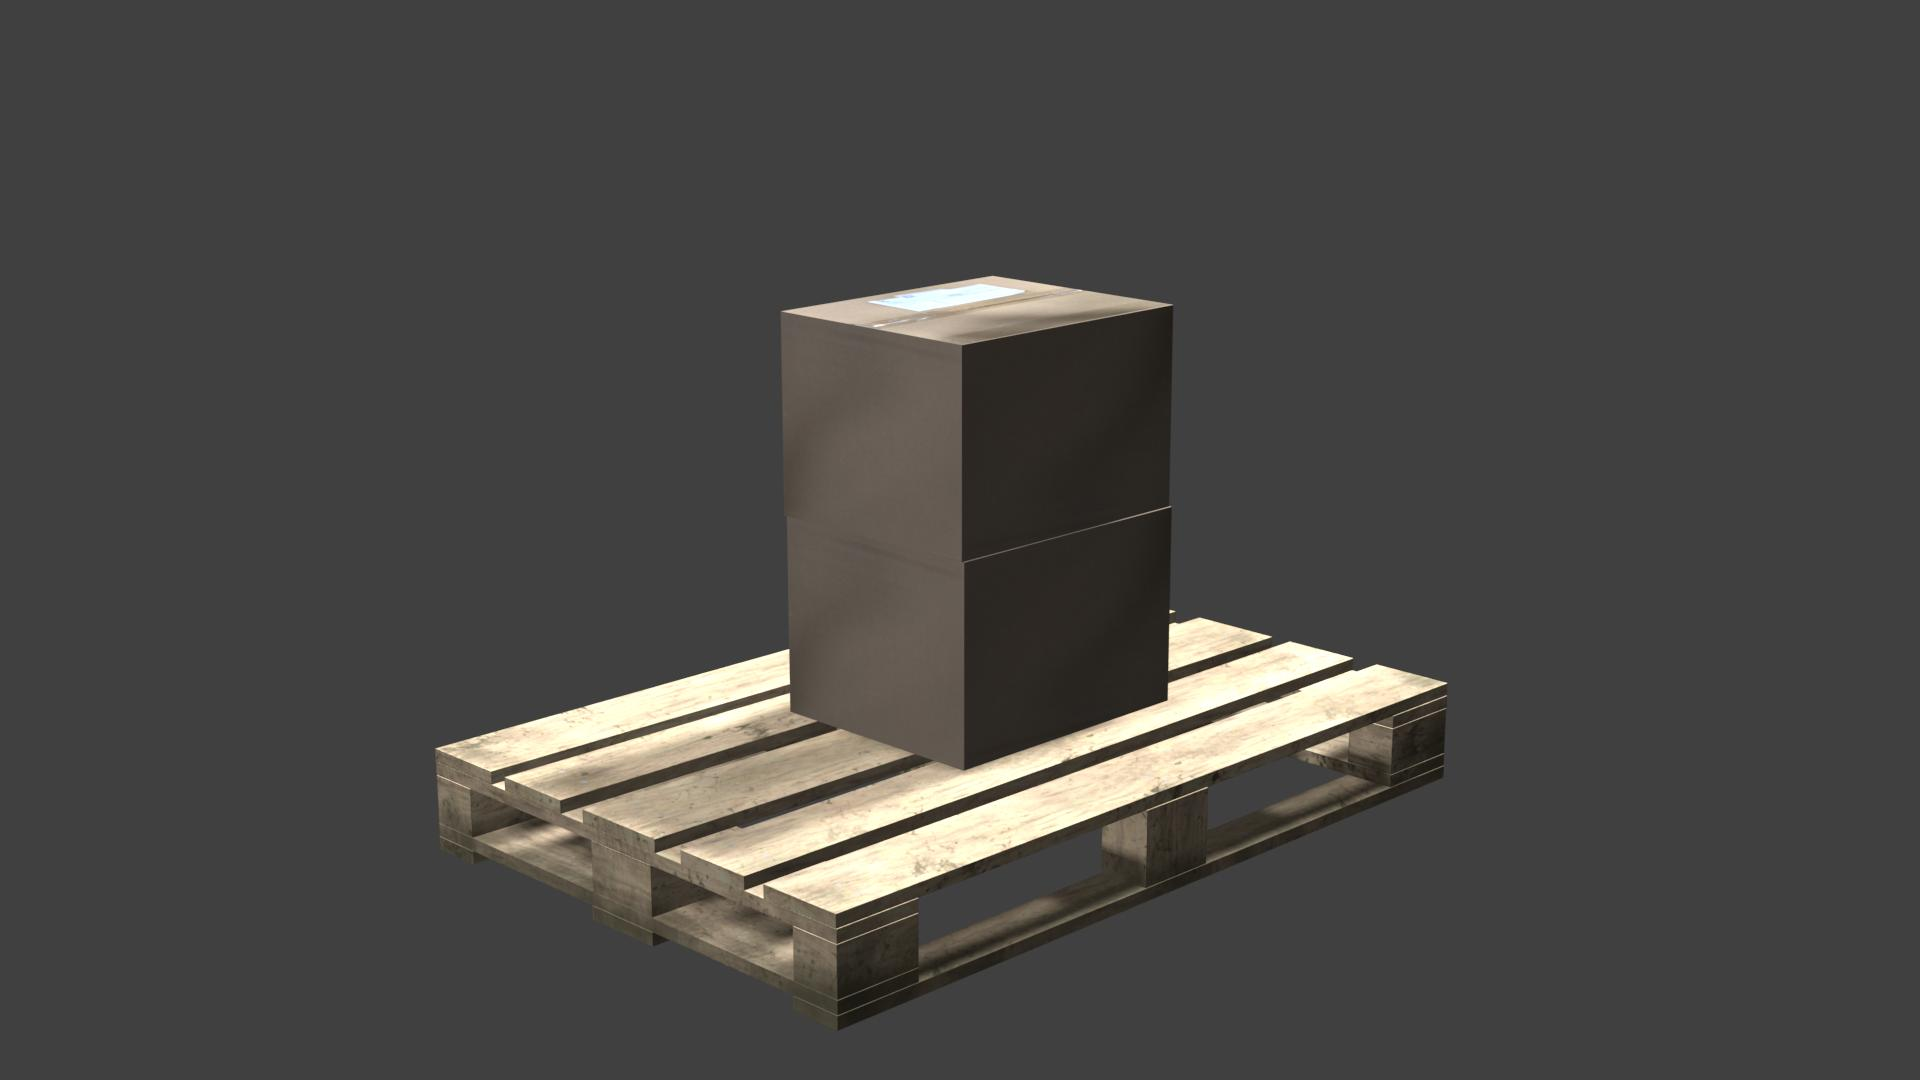group_box_left: (788, 505, 1172, 771), (782, 306, 1173, 562)
group_box_top: (782, 275, 1172, 346)
palet: (435, 607, 1448, 1033)
